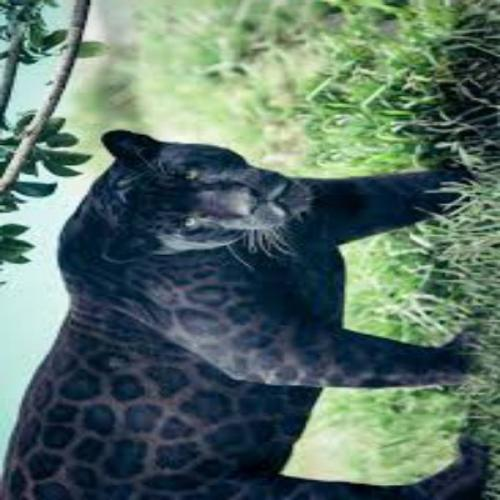panther-endangered: (5, 137, 486, 500)
